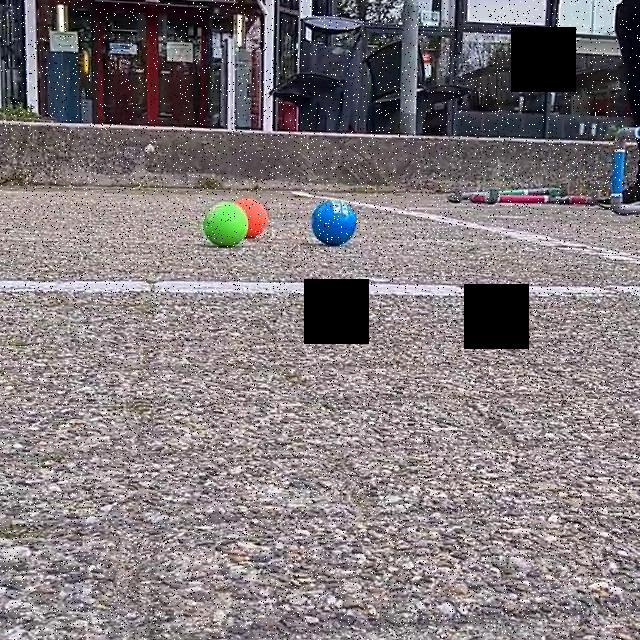ball: (202, 199, 254, 252), (310, 194, 354, 250), (232, 189, 270, 239)
